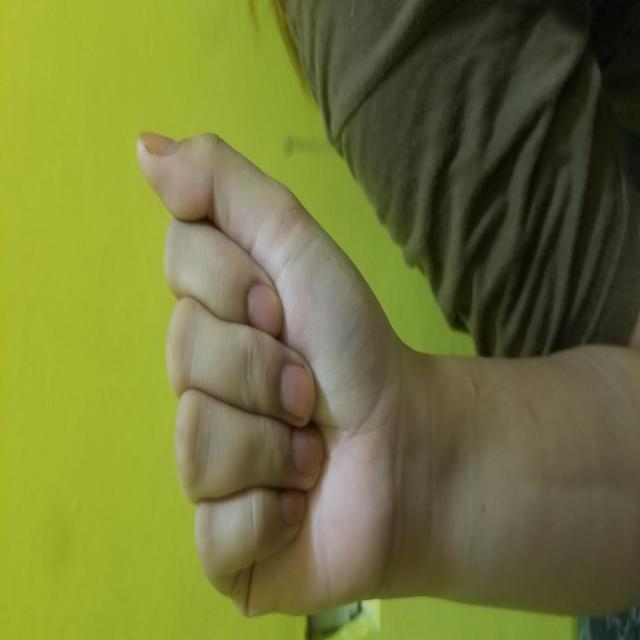A: (23, 134, 515, 397)
